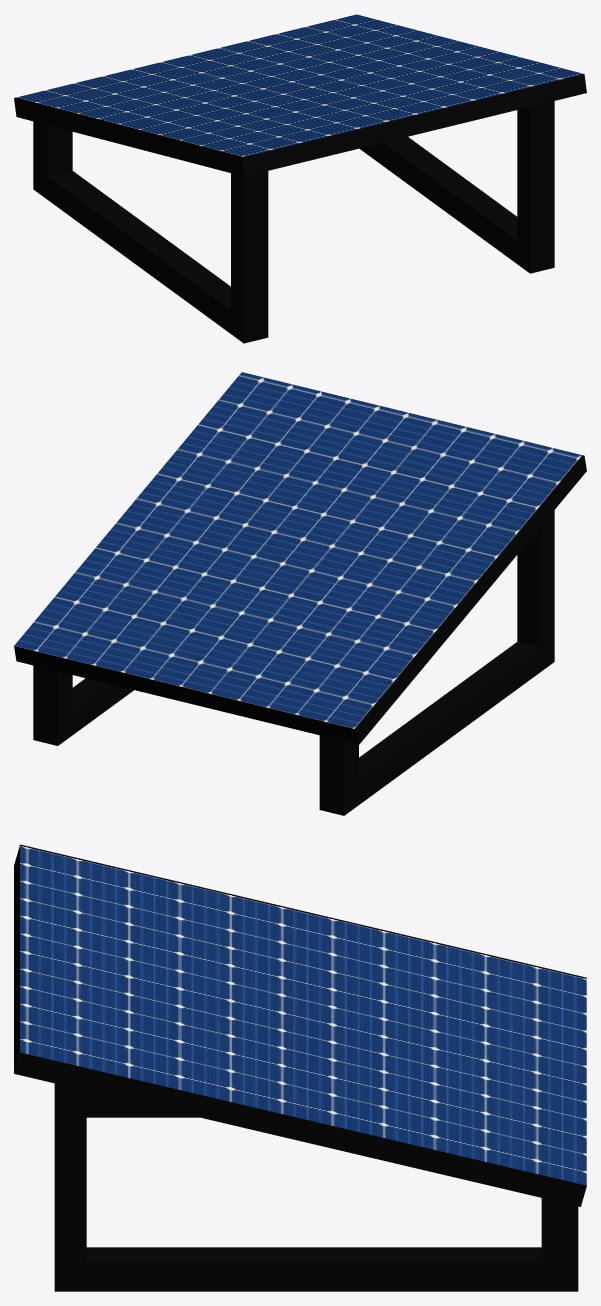
Rendered from solarPanel.fbx.
The picture shows the model from 3 angles, top to bottom: view 1: azimuth 30°, elevation 25°; view 2: azimuth 150°, elevation 25°; view 3: azimuth 270°, elevation 25°; orthographic projection. The views are drawn at different scales.
Parts seen in each view (by area): view 1: Cube.004; view 2: Cube.004; view 3: Cube.004.
Boxes of the visible parts, <box> form: Cube.004: <box>14,14,586,343</box>; Cube.004: <box>14,372,586,815</box>; Cube.004: <box>14,844,586,1291</box>.
Size of the model in its own units: 10.67 by 5.95 by 12.42.
1 material, 1 textured.
